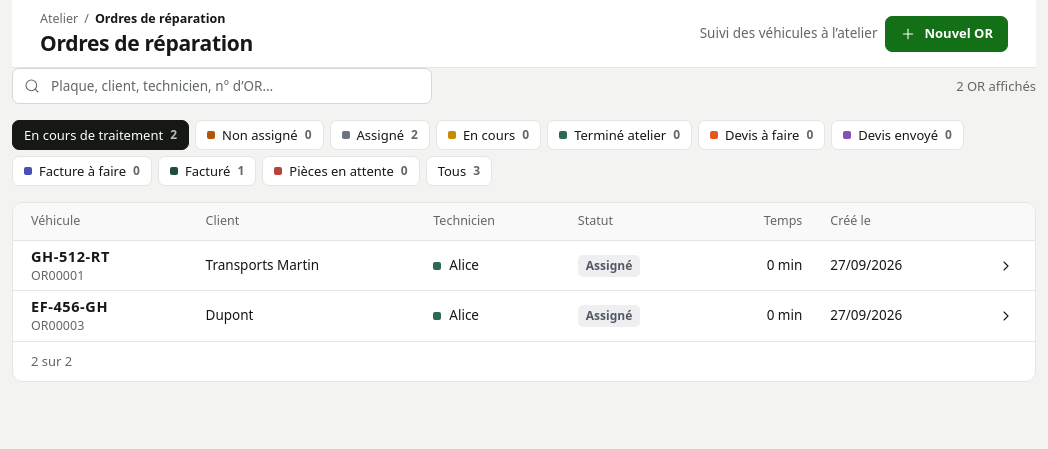
liste des OR › masque les OR facturés par défaut, filtre et recherche
Expected: the text "GH-512-RT" is shown, [31,246,110,266]
Expected: the text "AB-123-CD" is not shown
Click the button "Facturé 1".
click(207, 171)  # box [158,156,256,186]
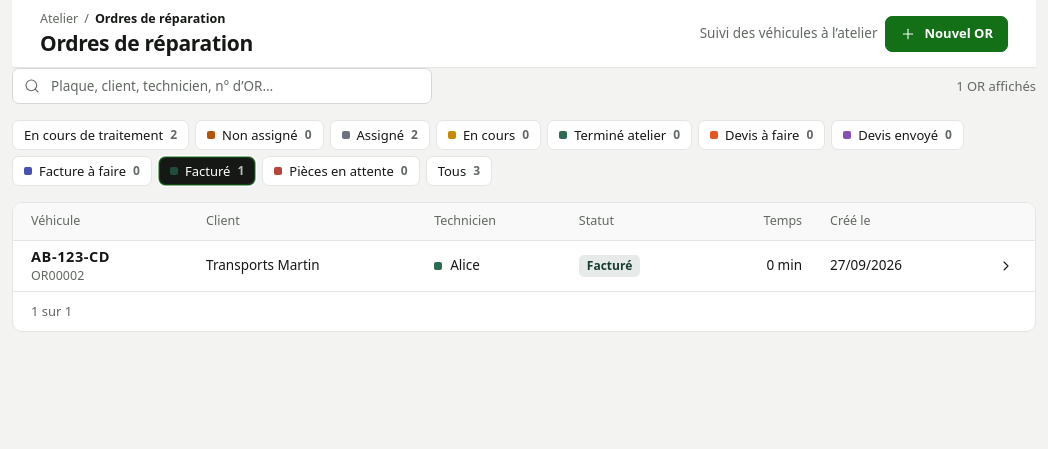
Now the text "AB-123-CD" is shown, box [31,246,110,266]
Now the link "GH-512-RT" is gone
Click the button "Tous 3".
click(459, 171)  # box [426,156,492,186]
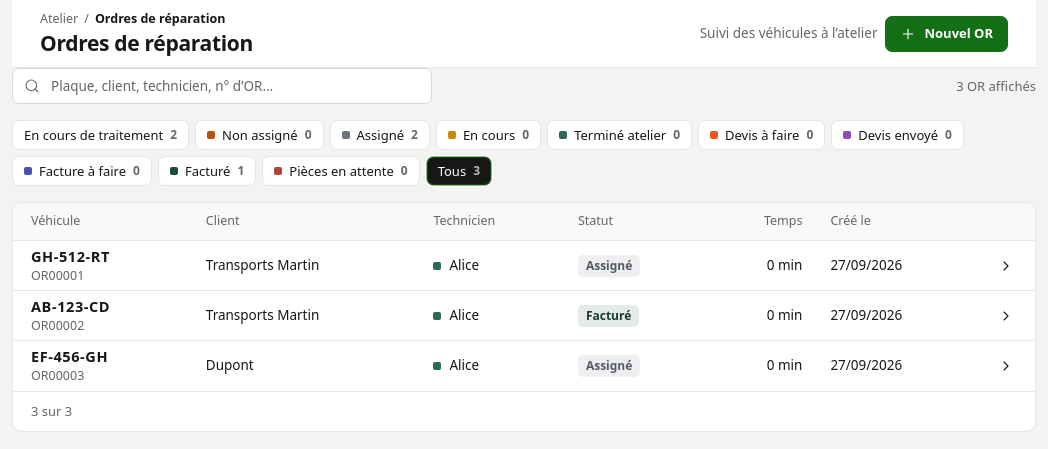
Type "ef 456" into the search field named "Rechercher un OR".
click(222, 86); type("ef 456")  # box [12,68,432,104]
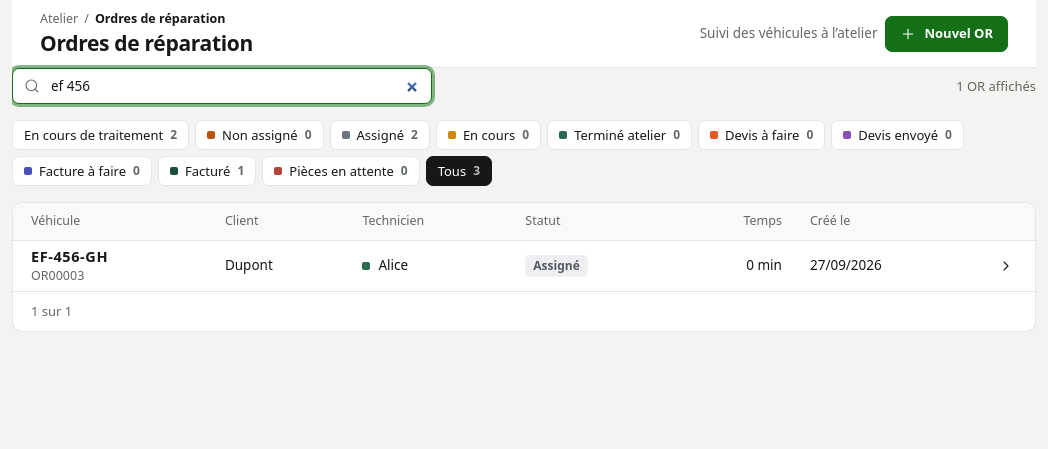
Now the text "EF-456-GH" is shown, box [31,246,108,266]
Now the link "GH-512-RT" is gone
